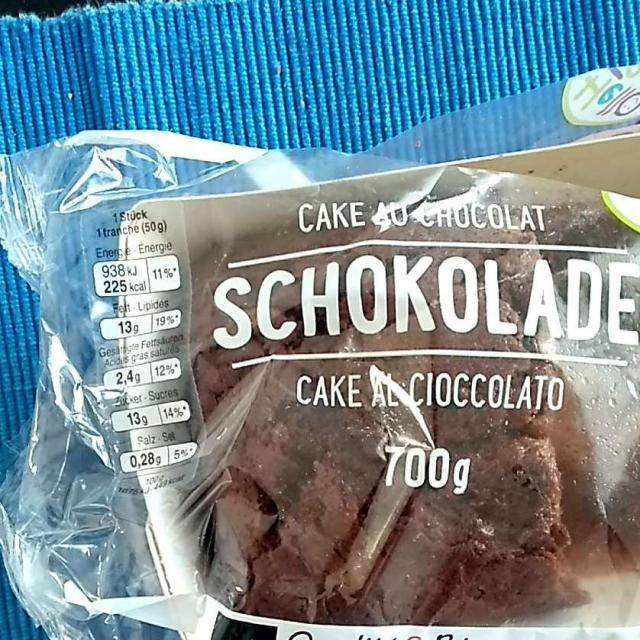cake: (215, 213, 640, 626)
